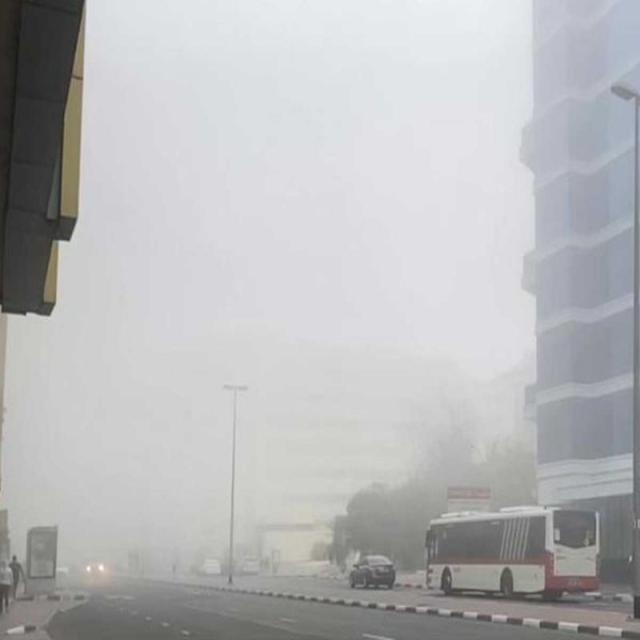no-low traffic: (63, 461, 629, 640)
